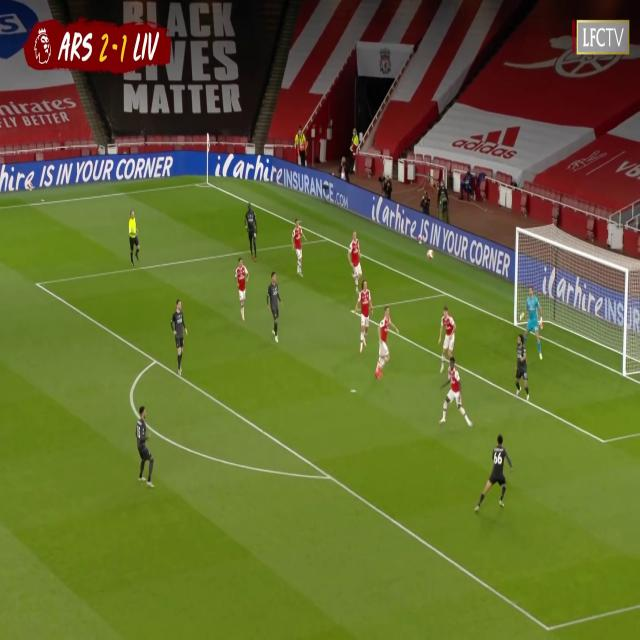Ball: (426, 249, 435, 262)
GoalKeeper: (520, 287, 543, 360)
TEAM 1: (474, 436, 511, 516), (135, 407, 154, 486), (169, 302, 187, 377), (513, 335, 532, 404), (266, 273, 283, 344), (245, 206, 258, 260)
TEAM 2: (438, 362, 474, 430), (352, 282, 375, 352), (376, 307, 395, 382), (440, 308, 456, 369), (235, 256, 249, 321), (291, 220, 305, 278), (349, 232, 363, 286)
